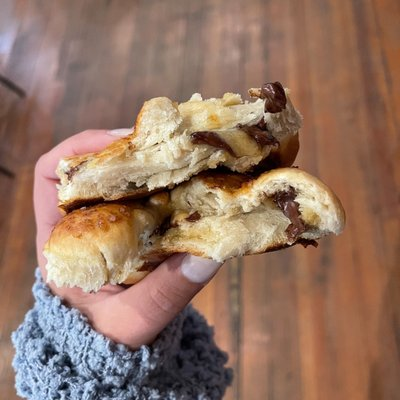soup: (43, 83, 331, 297)
